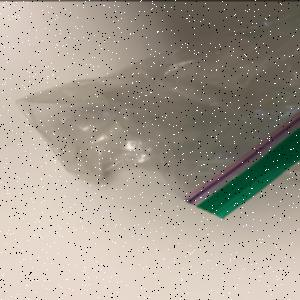Trash: (14, 11, 300, 221)
